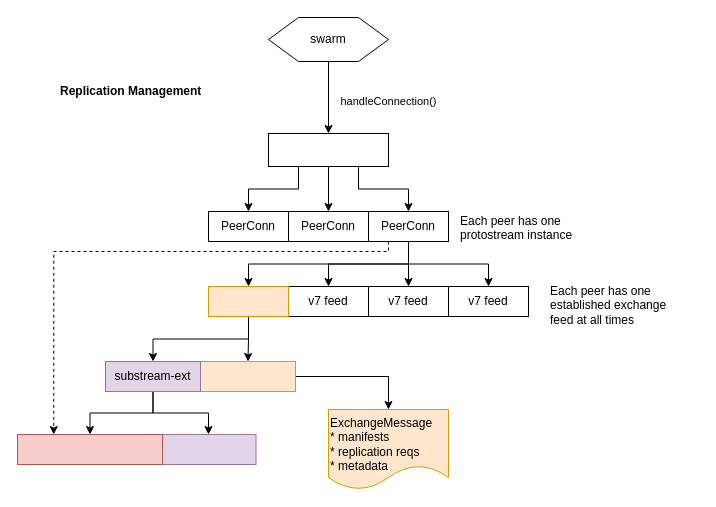
The diagram is 716 pixels wide and 507 high, and some of its shapes have lost their labels. The centre of each missing label's shape, as x and y in pixels:
exchange-ext: (248,376)
exchange-feed: (248,301)
replic 8: (328,149)
substream (proto <7 replication): (89,449)
substream (tcp/other): (208,449)
